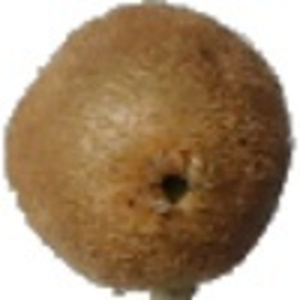kiwi: (1, 1, 294, 300)
